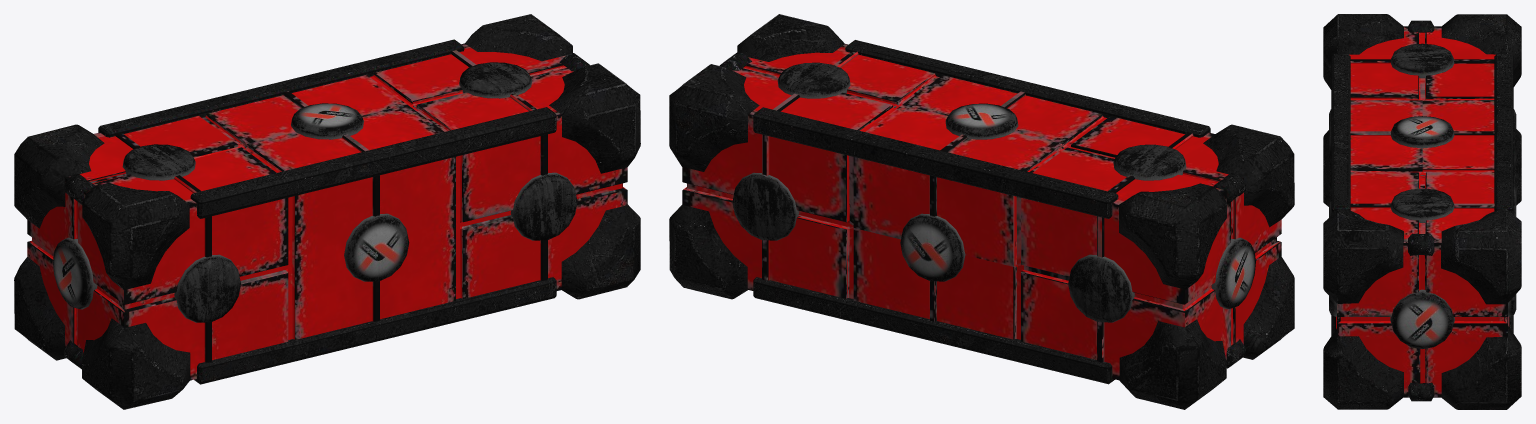
File: xcapadecube_2.obj
3 renders of one model, left to right at view 1: azimuth 30°, elevation 25°; view 2: azimuth 150°, elevation 25°; view 3: azimuth 270°, elevation 25°, orthographic. The views are drawn at different scales.
Parts seen in each view (by area): view 1: Cube.001_Cube.005; view 2: Cube.001_Cube.005; view 3: Cube.001_Cube.005.
Part boxes in pixels (bbox=[...]): Cube.001_Cube.005: bbox=[14, 14, 640, 409]; Cube.001_Cube.005: bbox=[669, 14, 1294, 409]; Cube.001_Cube.005: bbox=[1323, 14, 1521, 409].
Bounding box in the file's own units: 16.68 × 6.13 × 6.11.
